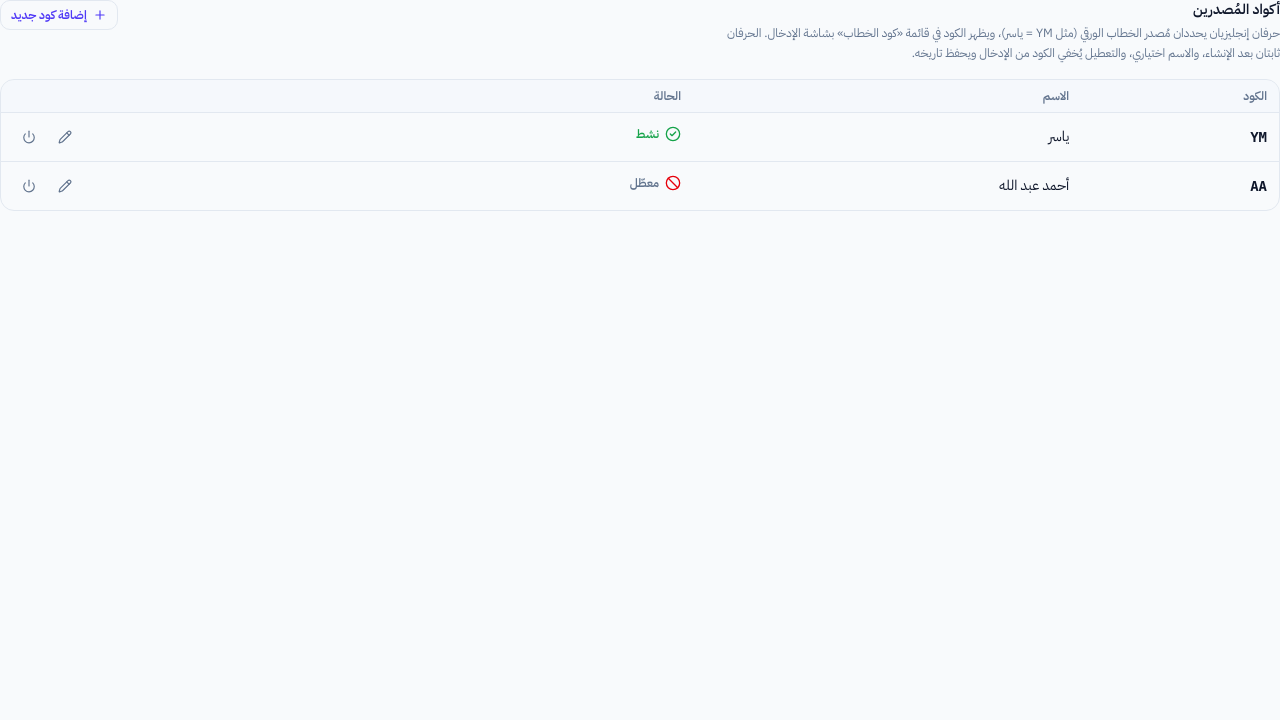
IssuersSettings › reports a duplicate code with its own message
The image size is (1280, 720).
Click the button "إضافة كود جديد": [59, 15] box [0,0,118,30]
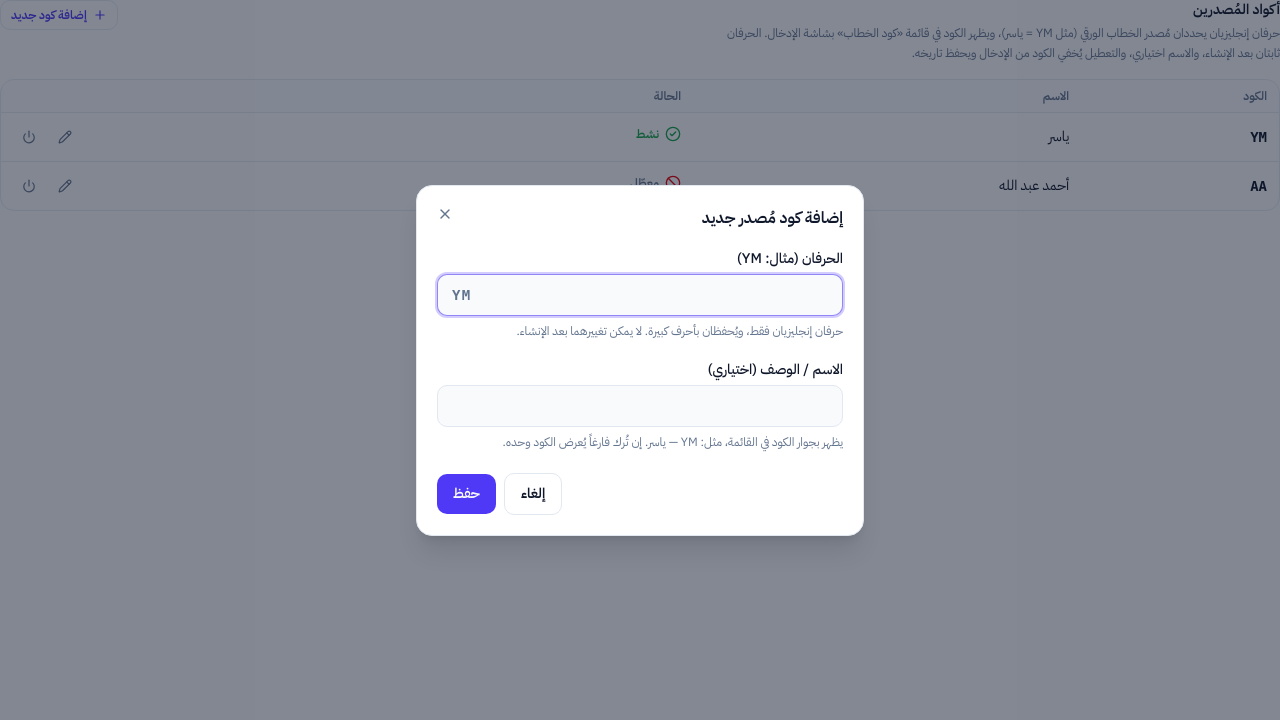
In the field labelled "الحرفان (مثال: YM)": [640, 294] box [437,274,843,316], type "ym"
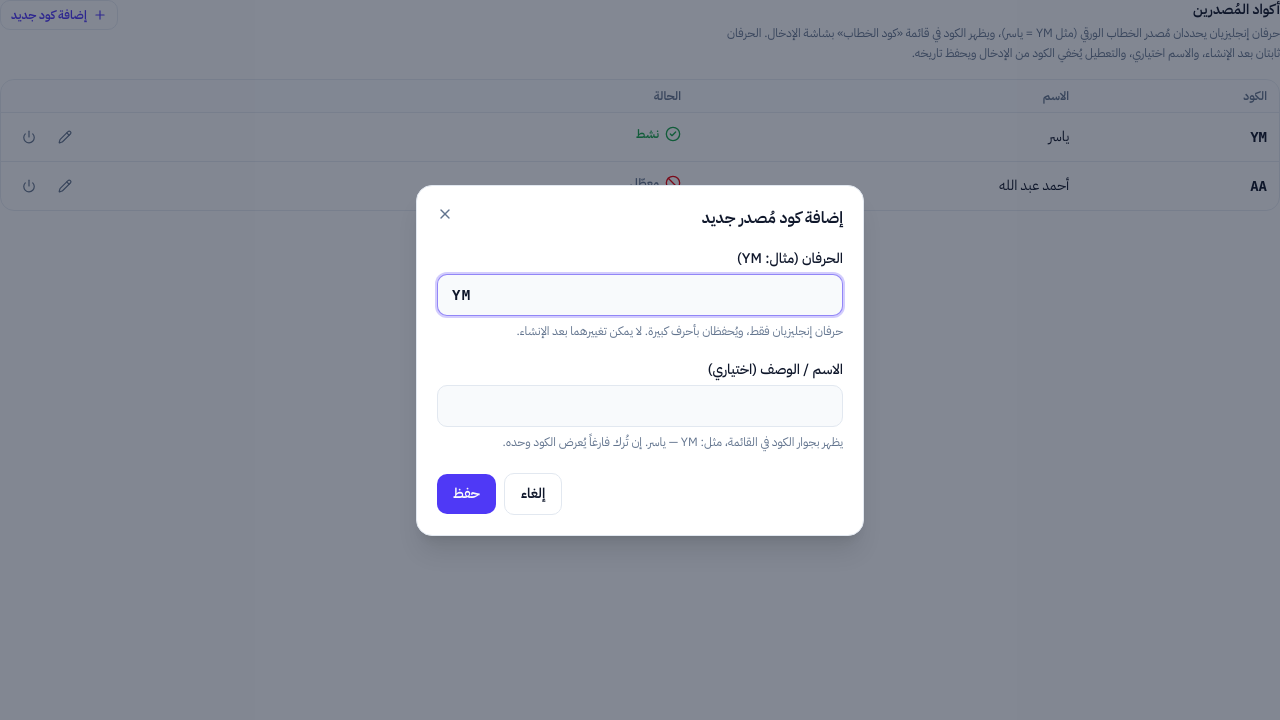
Click the button "حفظ": [466, 494] box [437,474,496,514]
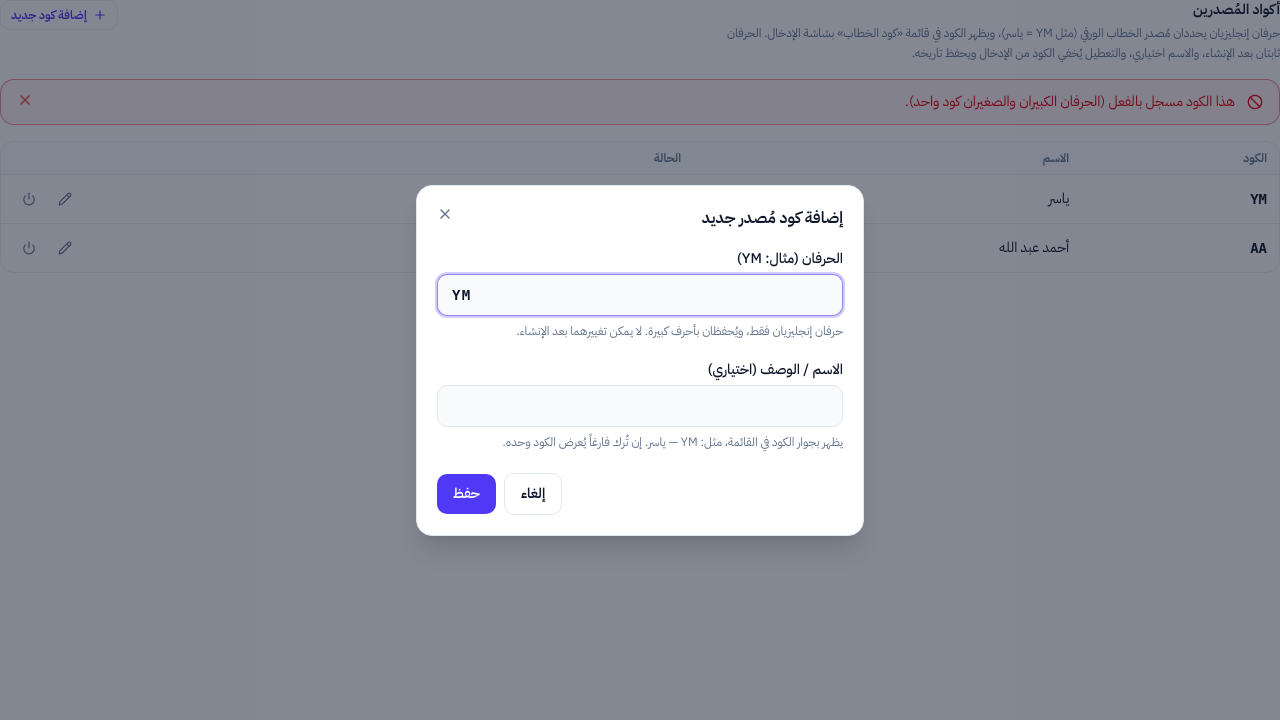
Expected: the message shows "هذا الكود مسجل بالفعل", [905,91,1235,112]
